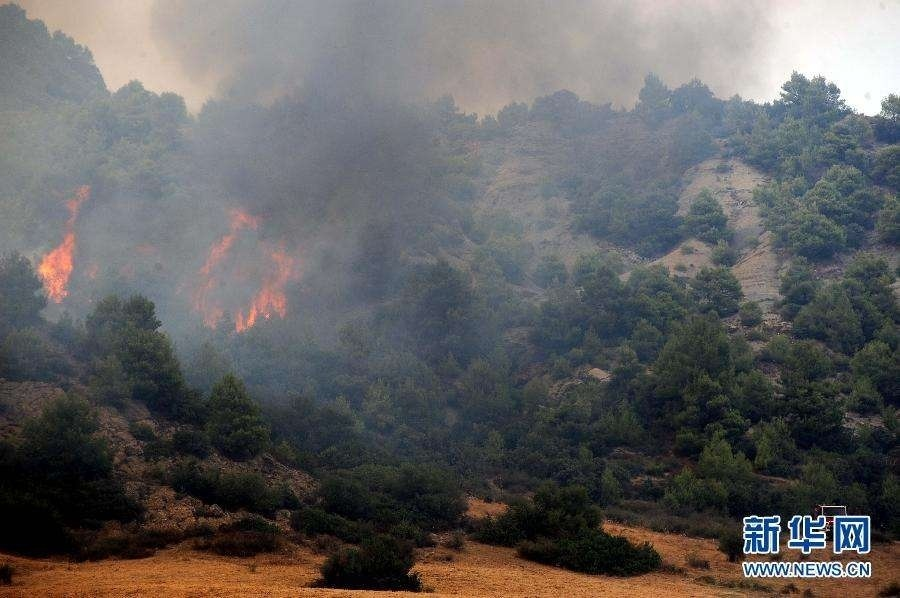fire: (186, 205, 302, 334), (36, 180, 93, 301)
